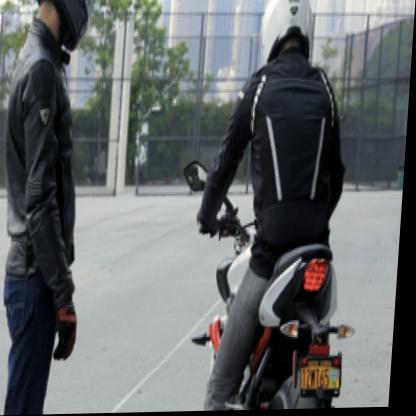With Helmet: (258, 0, 324, 80)
